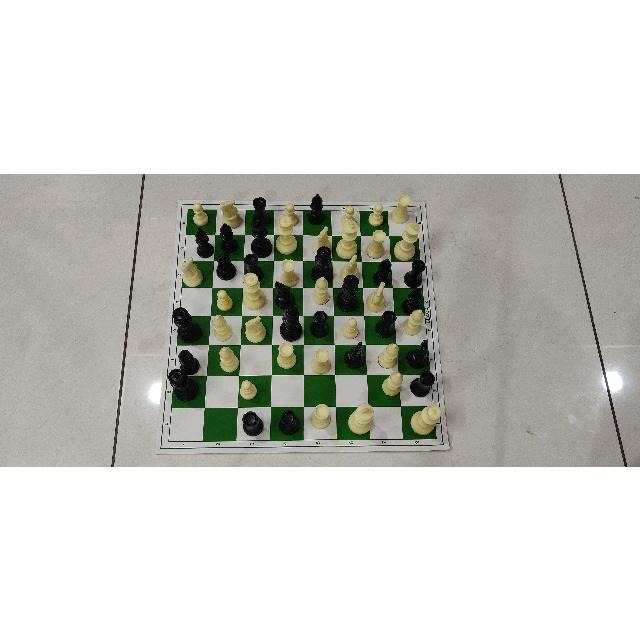black-bishop: (219, 221, 239, 253), (400, 287, 423, 314), (195, 226, 215, 257), (372, 257, 392, 287), (307, 192, 325, 225), (178, 349, 200, 375)
black-king: (249, 216, 272, 257), (335, 273, 359, 312), (279, 304, 303, 342)
black-knight: (215, 248, 237, 280), (405, 339, 428, 369), (342, 341, 365, 369), (274, 281, 296, 309)
black-queen: (171, 305, 202, 343), (167, 367, 199, 401), (310, 245, 334, 283)
black-rook: (409, 370, 435, 398), (374, 308, 397, 337), (403, 259, 426, 287), (252, 195, 272, 227), (241, 410, 264, 436), (243, 253, 264, 281), (308, 310, 329, 338), (278, 409, 300, 435)
white-bishop: (401, 308, 424, 336), (376, 341, 399, 369), (218, 345, 240, 373), (381, 370, 404, 396), (211, 313, 232, 341), (311, 275, 331, 304)
white-king: (393, 221, 421, 261), (347, 401, 375, 435), (336, 218, 358, 259)
white-knight: (364, 280, 387, 312), (179, 256, 203, 286), (243, 314, 267, 343), (218, 198, 241, 228), (311, 225, 332, 257), (339, 253, 361, 283)
white-pawn: (192, 200, 209, 225), (282, 201, 299, 226), (367, 201, 384, 226), (216, 288, 234, 311), (341, 315, 359, 338), (339, 204, 356, 228), (240, 378, 258, 399)
white-queen: (410, 404, 442, 436), (241, 270, 266, 310), (275, 213, 298, 254)
white-rook: (390, 192, 412, 223), (365, 228, 387, 258), (310, 346, 332, 375), (309, 402, 331, 430), (276, 341, 298, 369), (279, 257, 299, 287)
